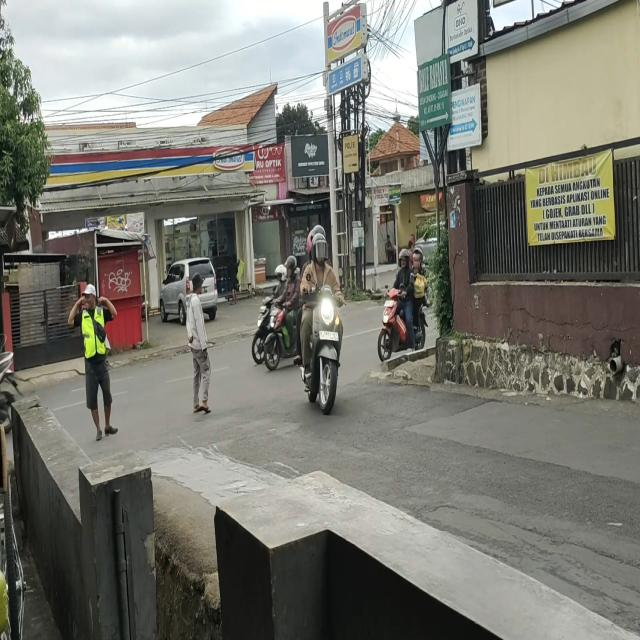helmet: (312, 234, 328, 262), (412, 248, 424, 270), (284, 254, 296, 274), (399, 248, 409, 268), (275, 264, 286, 280)
